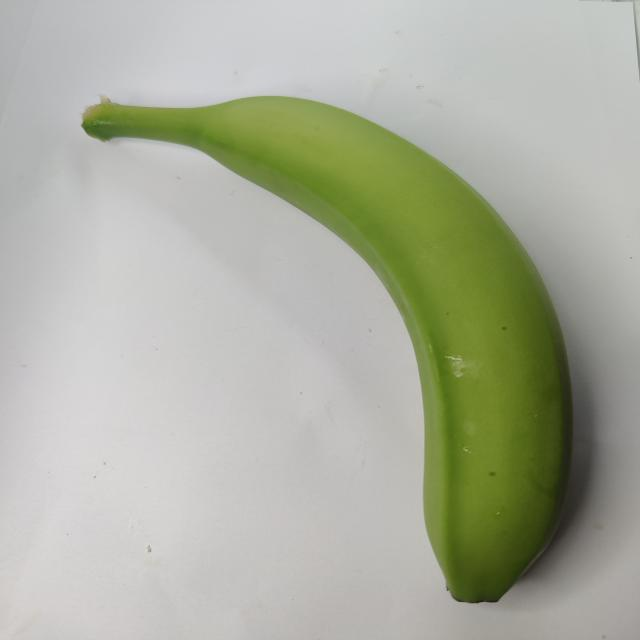raw: (64, 77, 624, 615)
